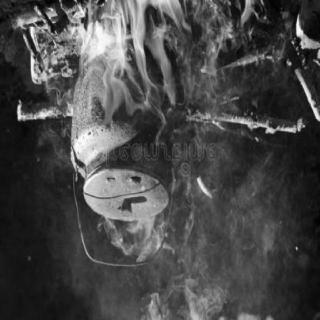Fire: (53, 3, 271, 277)
